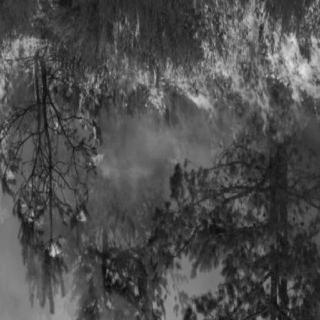Fire: (3, 9, 316, 169), (9, 173, 99, 273)
